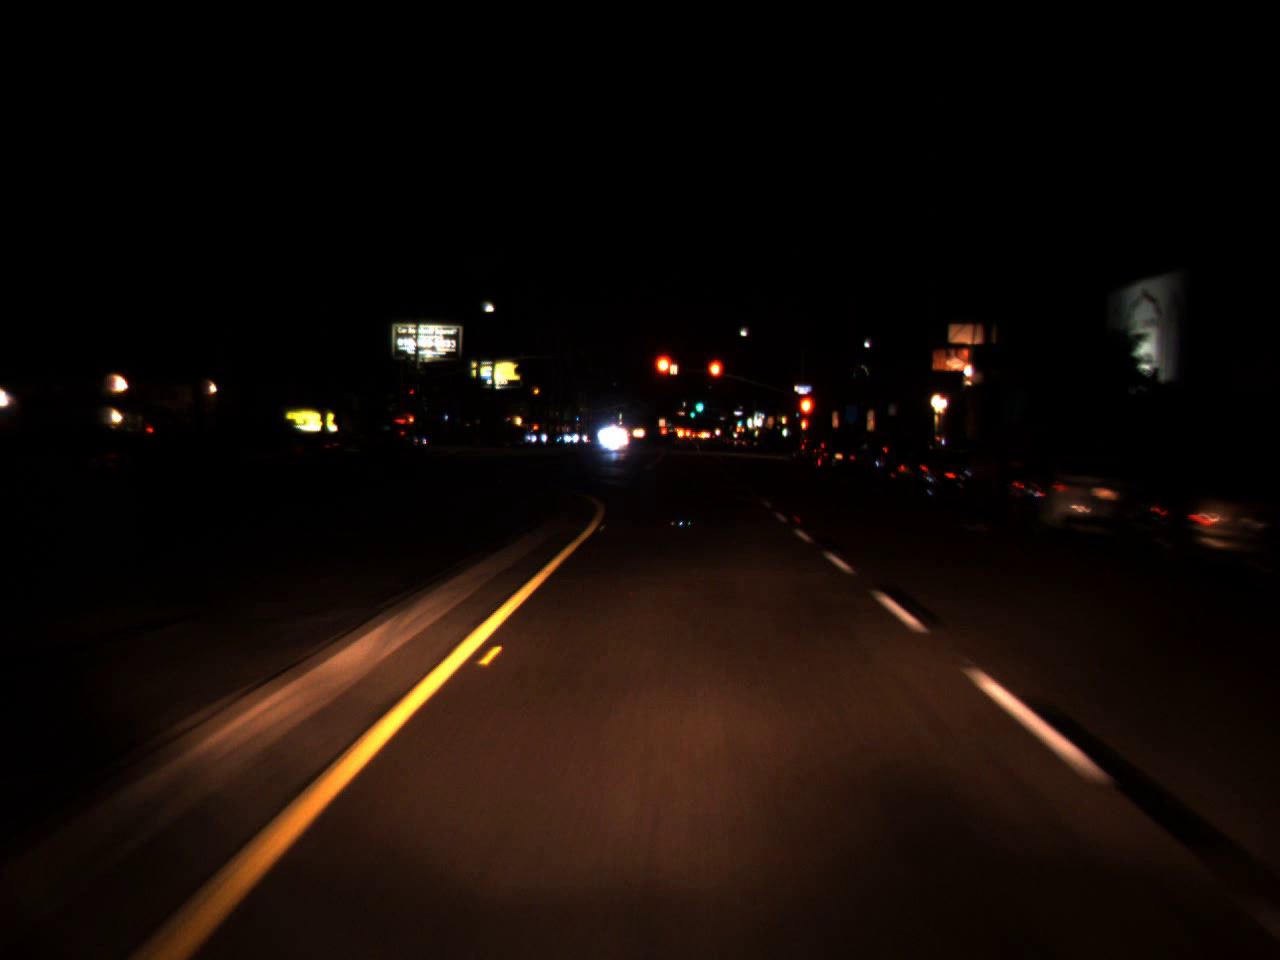go: (692, 392, 703, 416), (734, 414, 743, 426)
stop: (652, 351, 676, 399), (796, 394, 817, 437), (706, 358, 724, 395)
